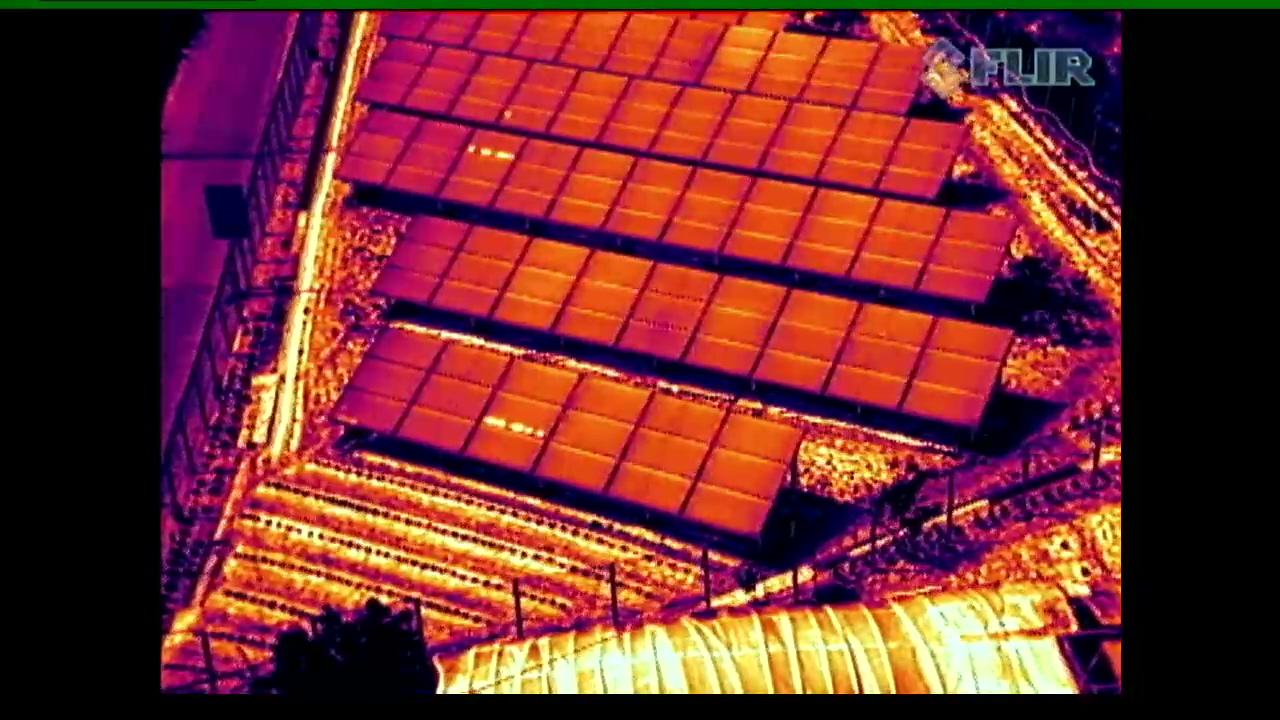hotspot: (455, 359, 584, 471), (440, 126, 526, 207), (497, 62, 584, 130)
